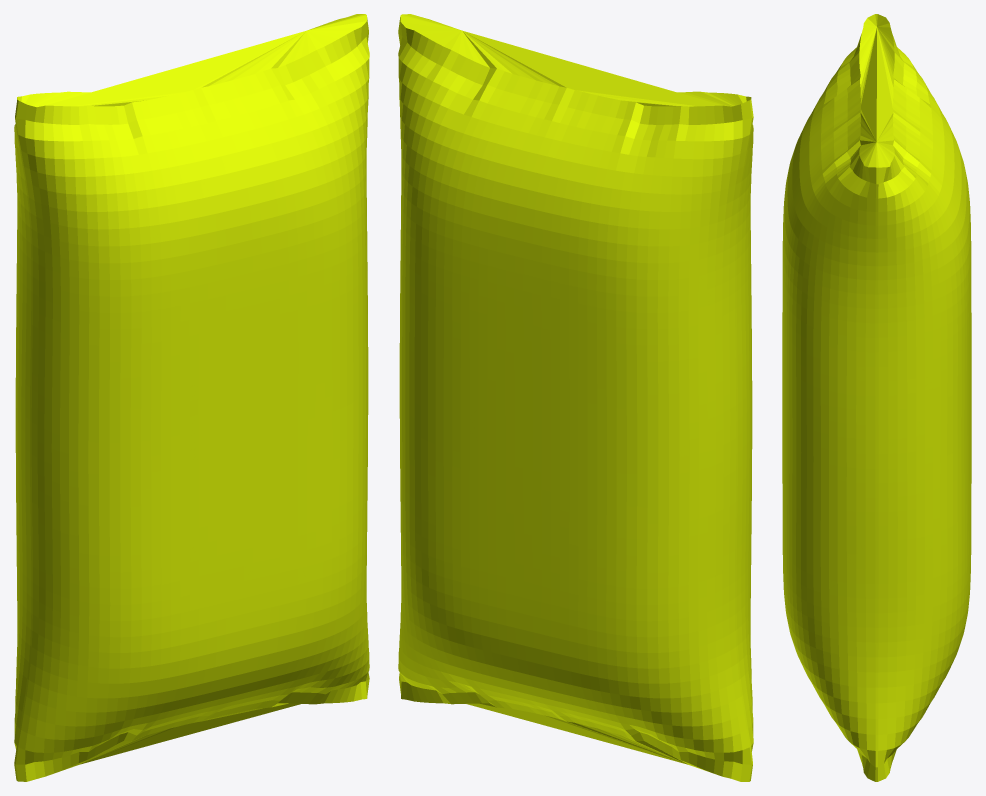
The model's file is bolsaDePapitazzz.obj.
3 renders of one model, left to right at view 1: azimuth 30°, elevation 25°; view 2: azimuth 150°, elevation 25°; view 3: azimuth 270°, elevation 25°, orthographic. The views are drawn at different scales.
Parts seen in each view (by area): view 1: Plane; view 2: Plane; view 3: Plane.
Part boxes in pixels (<box>): Plane: <box>14,14,369,781</box>; Plane: <box>398,14,753,781</box>; Plane: <box>782,14,971,781</box>.
Size of the model in its own units: 1.88 by 3.45 by 0.9634.
